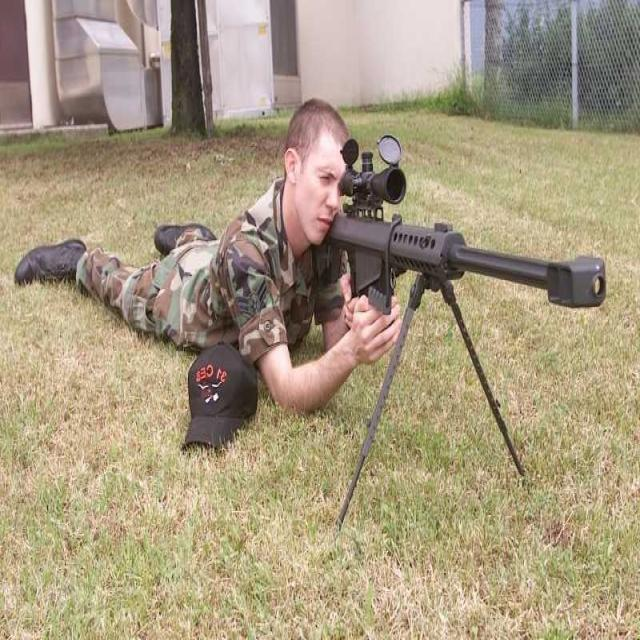heavyweapon: (312, 112, 613, 362)
